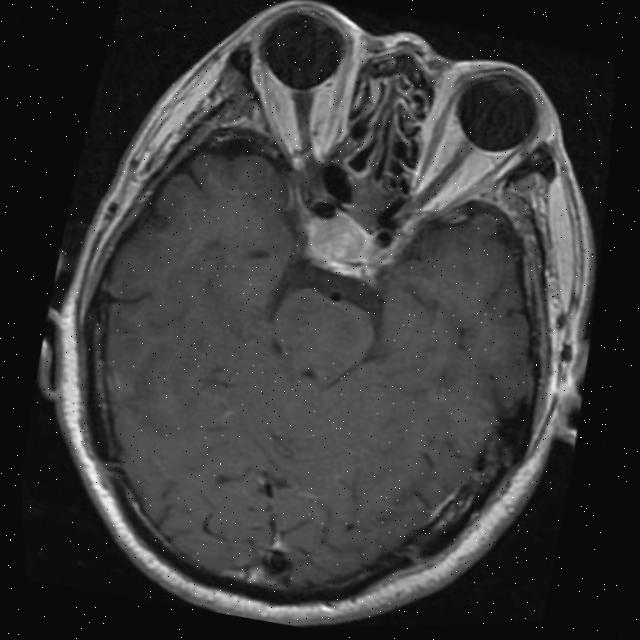Pituitary: (305, 206, 375, 269)
